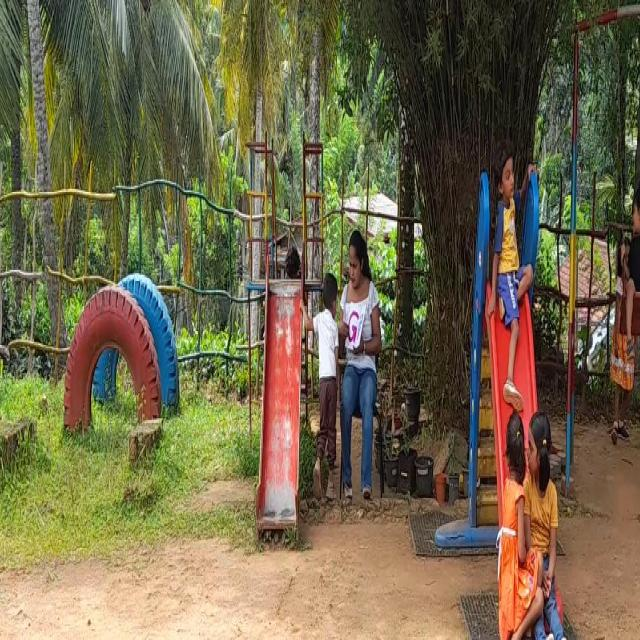adult: (337, 215, 388, 498)
child: (525, 410, 572, 640), (494, 139, 528, 406), (307, 258, 338, 506), (495, 402, 526, 640), (619, 173, 640, 359)
